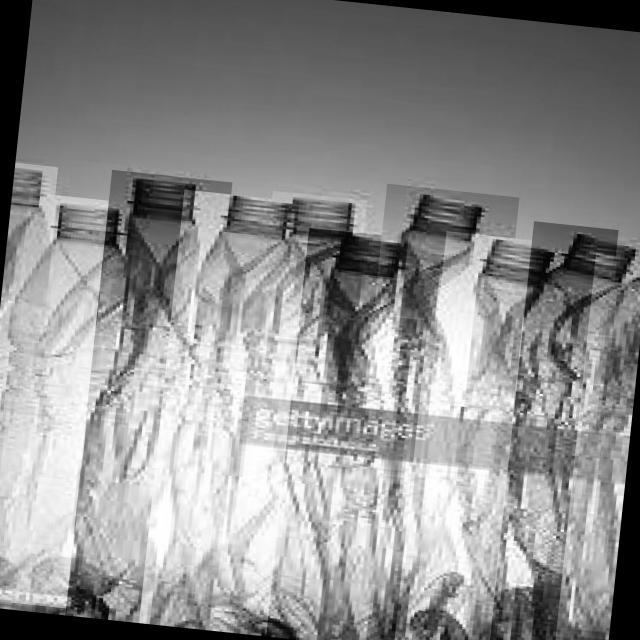defected: (487, 221, 618, 640), (552, 253, 640, 640), (428, 231, 588, 414), (373, 184, 519, 328)
good: (65, 170, 232, 628), (138, 189, 298, 635), (266, 227, 436, 640), (0, 192, 155, 613), (226, 190, 367, 640), (0, 160, 57, 602)
